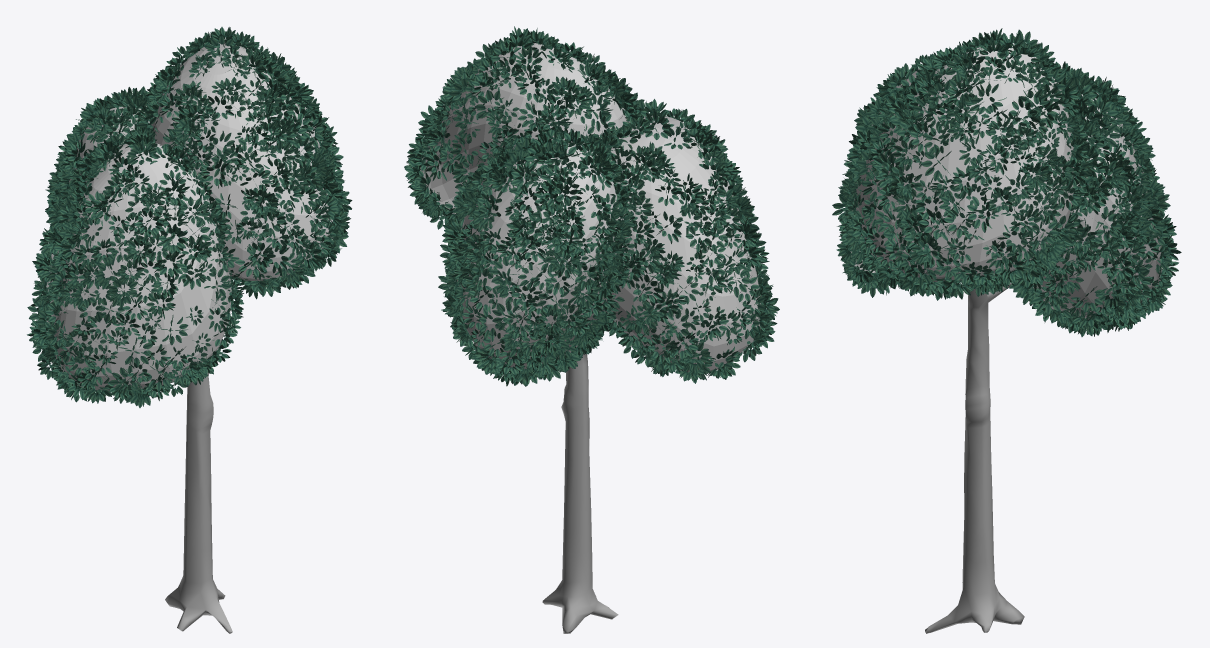
File: Smalltree.fbx
3 renders of one model, left to right at view 1: azimuth 30°, elevation 25°; view 2: azimuth 150°, elevation 25°; view 3: azimuth 270°, elevation 25°, orthographic. The views are drawn at different scales.
Visible parts, largest first — view 1: Leaves1, LeafSphere, LeafSphere1, Smalltree_low2, LeafSphere2; view 2: Leaves1, LeafSphere, LeafSphere2, LeafSphere1, Smalltree_low2; view 3: Leaves1, LeafSphere1, Smalltree_low2, LeafSphere2.
Part boxes in pixels (bbox=[...]): Leaves1: bbox=[27, 27, 352, 407]; LeafSphere: bbox=[46, 143, 231, 390]; LeafSphere1: bbox=[150, 42, 332, 280]; Smalltree_low2: bbox=[165, 373, 232, 633]; LeafSphere2: bbox=[69, 103, 149, 196]; Leaves1: bbox=[404, 26, 779, 386]; LeafSphere: bbox=[604, 115, 761, 373]; LeafSphere2: bbox=[457, 142, 620, 368]; LeafSphere1: bbox=[420, 43, 626, 213]; Smalltree_low2: bbox=[542, 353, 618, 633]; Leaves1: bbox=[832, 28, 1181, 336]; LeafSphere1: bbox=[852, 44, 1074, 281]; Smalltree_low2: bbox=[925, 282, 1024, 633]; LeafSphere2: bbox=[1030, 86, 1162, 319].
Size of the model in its own units: 7.09 by 11.59 by 6.29.
